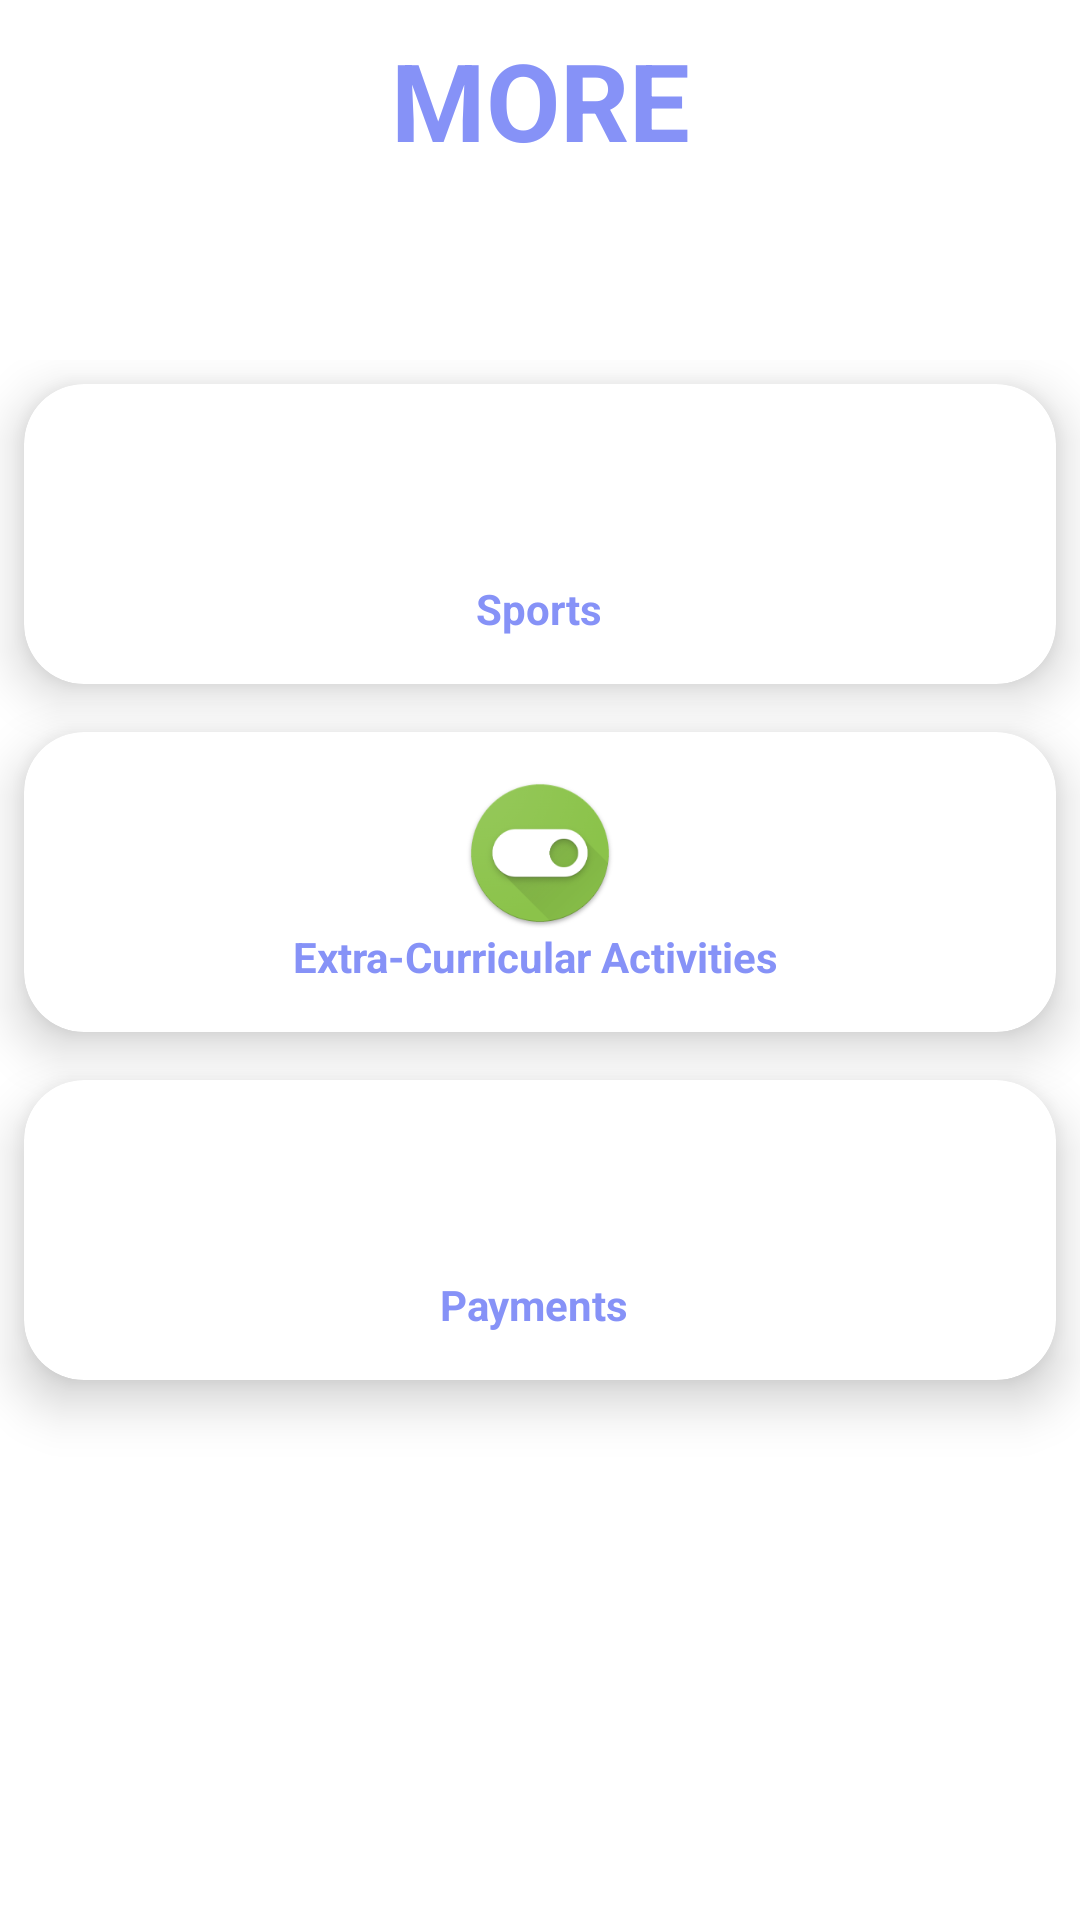

Locate icon controls on the screen. Image size 1080px×1920px, boxes as (x1, y1, x2, y2).
toggle: (470, 784, 610, 925)
